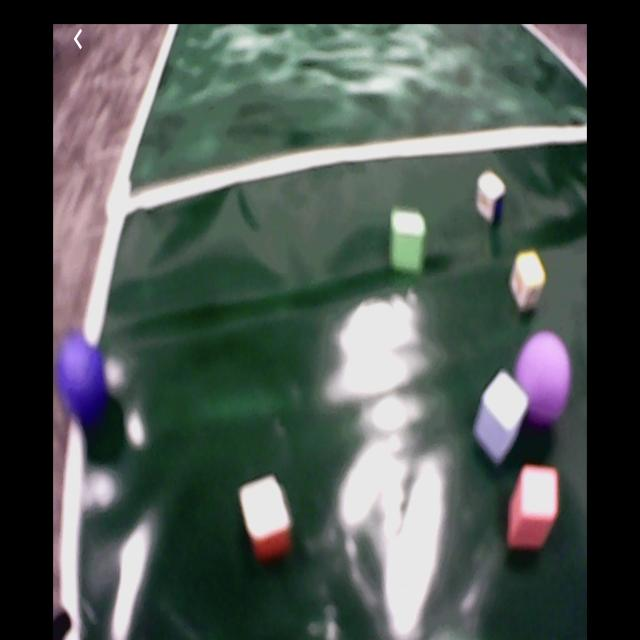ball: (516, 332, 571, 428), (58, 334, 110, 417)
